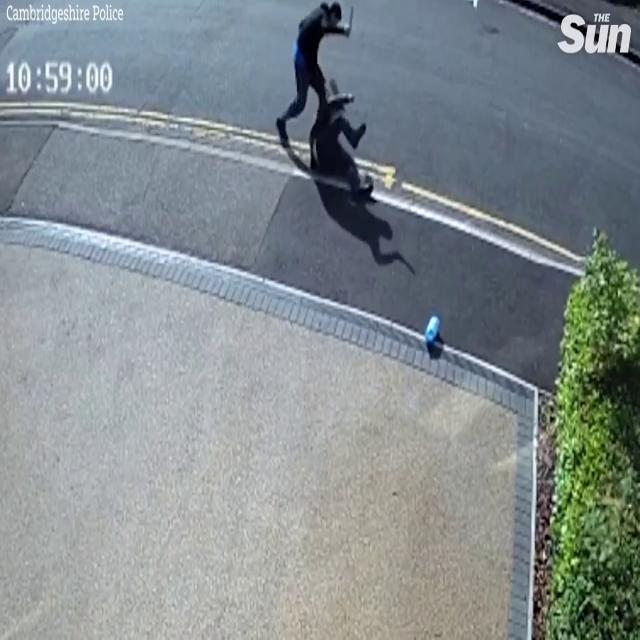Knife_Handle: (346, 3, 355, 37)
